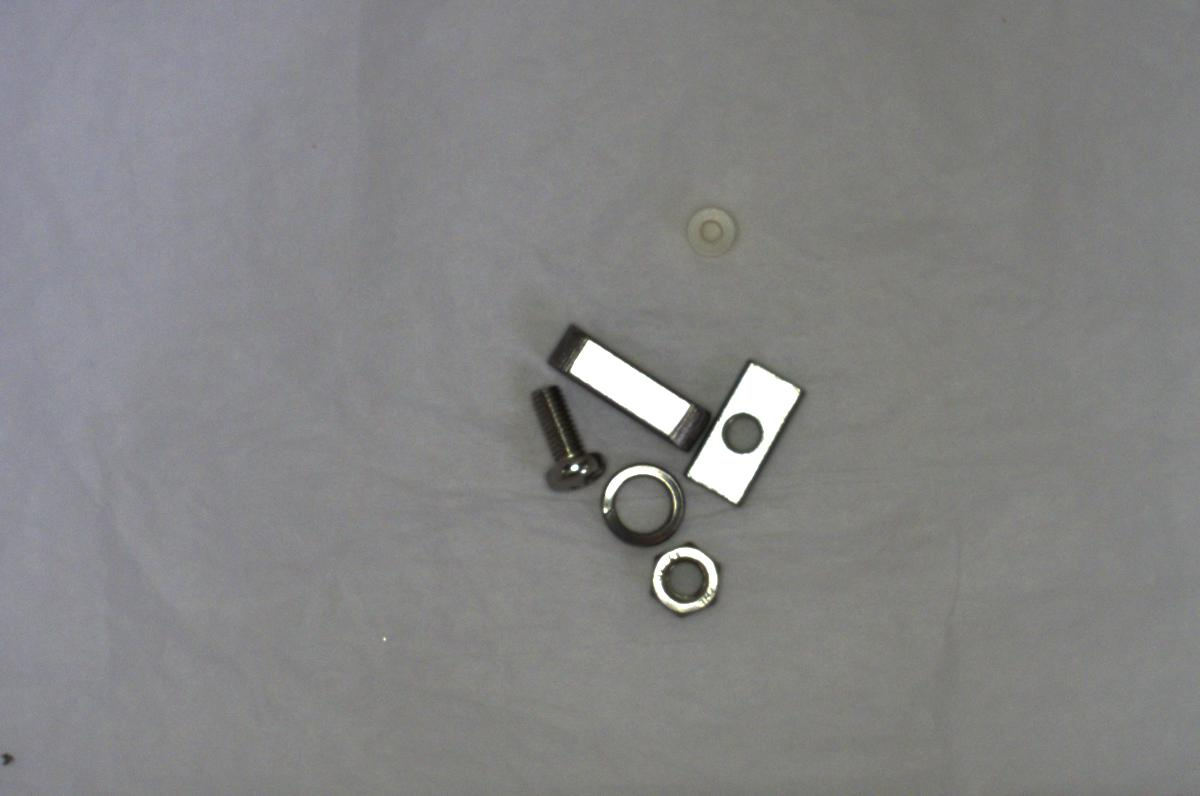Hexagon nut: (644, 534, 724, 623)
Keybar: (545, 326, 710, 453)
Plastic cushion pillar: (682, 193, 738, 254)
Rectangular nut: (680, 349, 802, 512)
Round head screw: (520, 381, 605, 490)
Spring washer: (580, 465, 687, 552)
